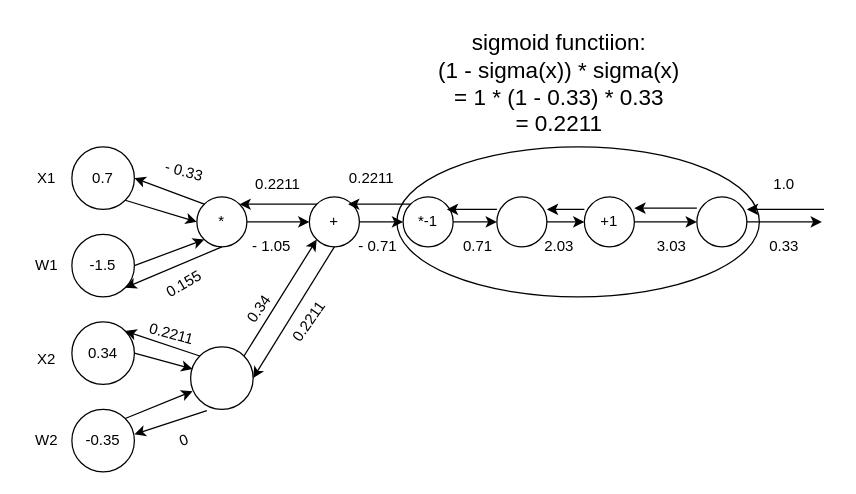
Some shapes in this 856 by 494 pixel diagram are drawn without their labels. The shapes that lost their labels are listed below. From the top down, each one's centre as x and y in pixels, then its label:
point (521, 221): exp
point (721, 221): 1/x
point (221, 377): max
